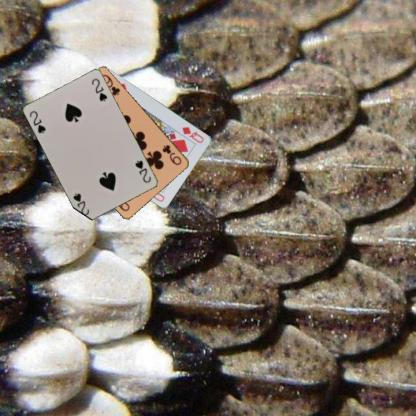2s: (28, 108, 48, 135), (132, 158, 152, 184)
9c: (160, 142, 182, 167)
Qd: (180, 124, 205, 145)
